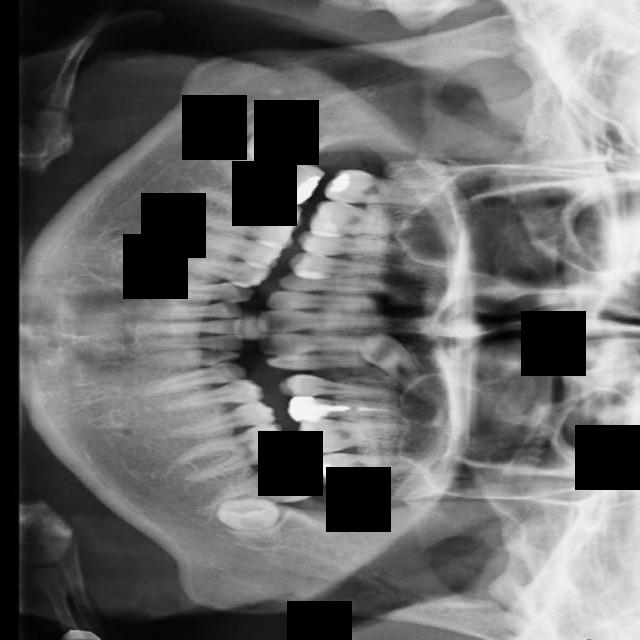52: (255, 446, 321, 514), (266, 152, 326, 216), (241, 414, 296, 475), (290, 407, 343, 465), (309, 445, 360, 497), (322, 159, 371, 210), (304, 193, 352, 244), (285, 393, 319, 424)
73: (315, 398, 401, 421), (70, 615, 76, 621)
BioHorizons Implant: (311, 452, 426, 488)
Biomet 3i Implant: (213, 494, 283, 550)
Blue Sky Bio Implant: (201, 457, 318, 513)
Caries: (323, 168, 452, 207)
Implant: (214, 146, 326, 213)
Keystone Dental Implant: (239, 104, 315, 170)
